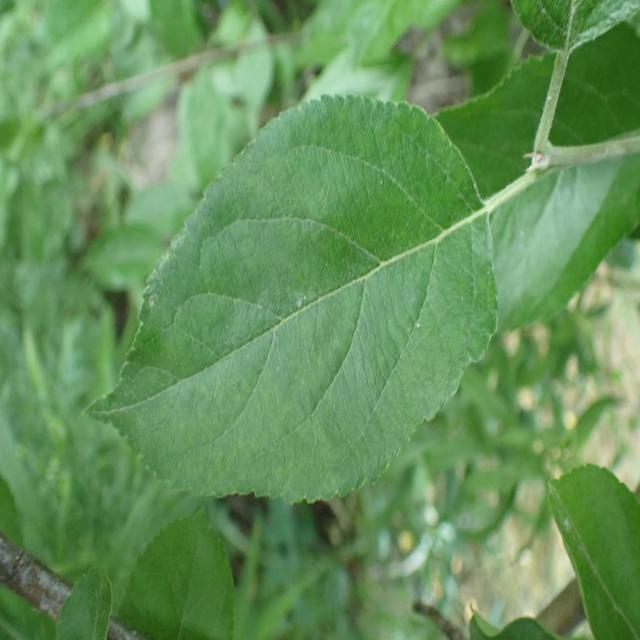healthy: (81, 92, 500, 504), (547, 462, 640, 640), (111, 508, 235, 640)
